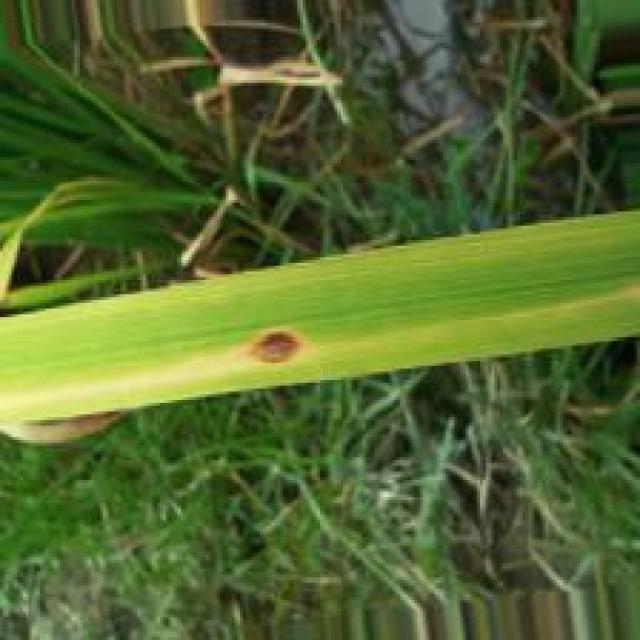Brown_Spot: (249, 325, 305, 372)
